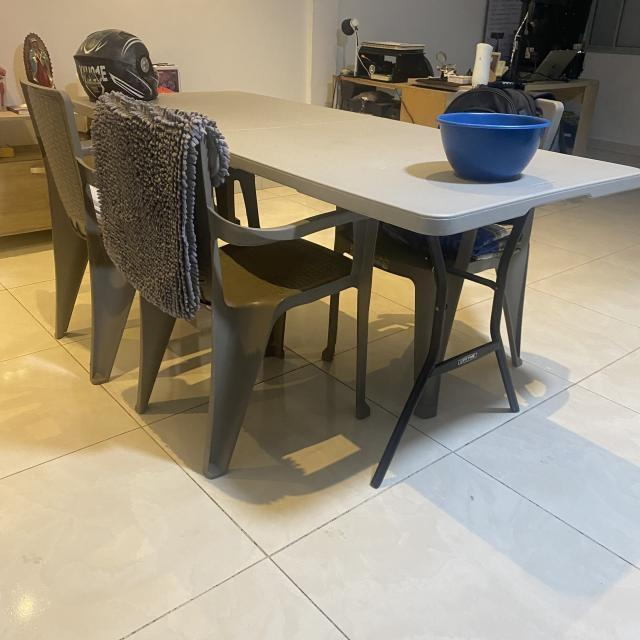obstacle: (29, 59, 640, 500)
